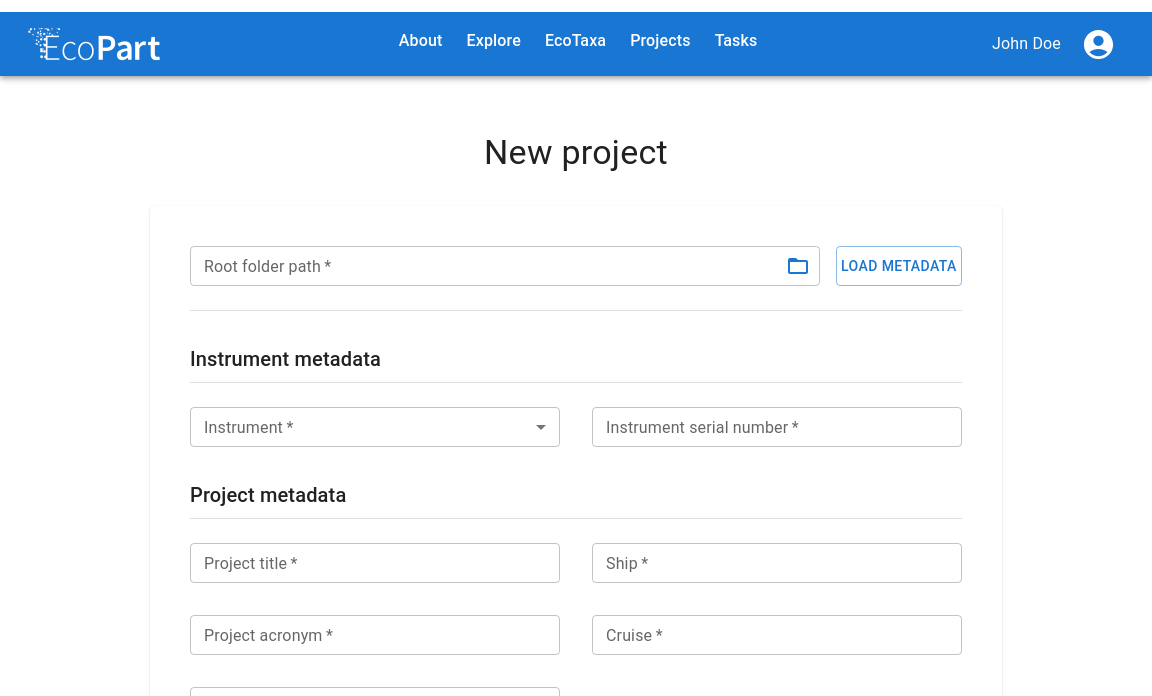
NewProjectPage (Functional) › TC-H6: should preserve entered values and show error when metadata loading fails
Check: the heading "New project" is shown, box [484,132,668,172]
Type "/invalid/folder/path" into the field labelled "Root folder path *" at (480, 266), box [190,246,770,286]
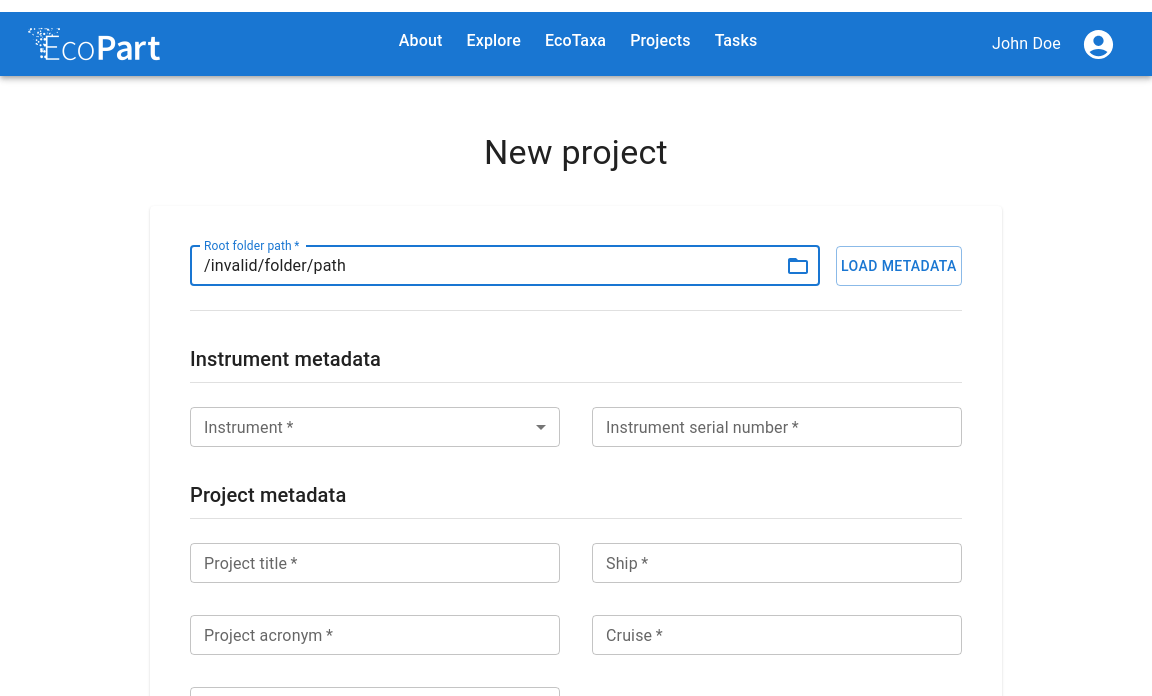
Type "MANUAL" into the field labelled "Project acronym *" at (375, 635), box [190,615,560,655]
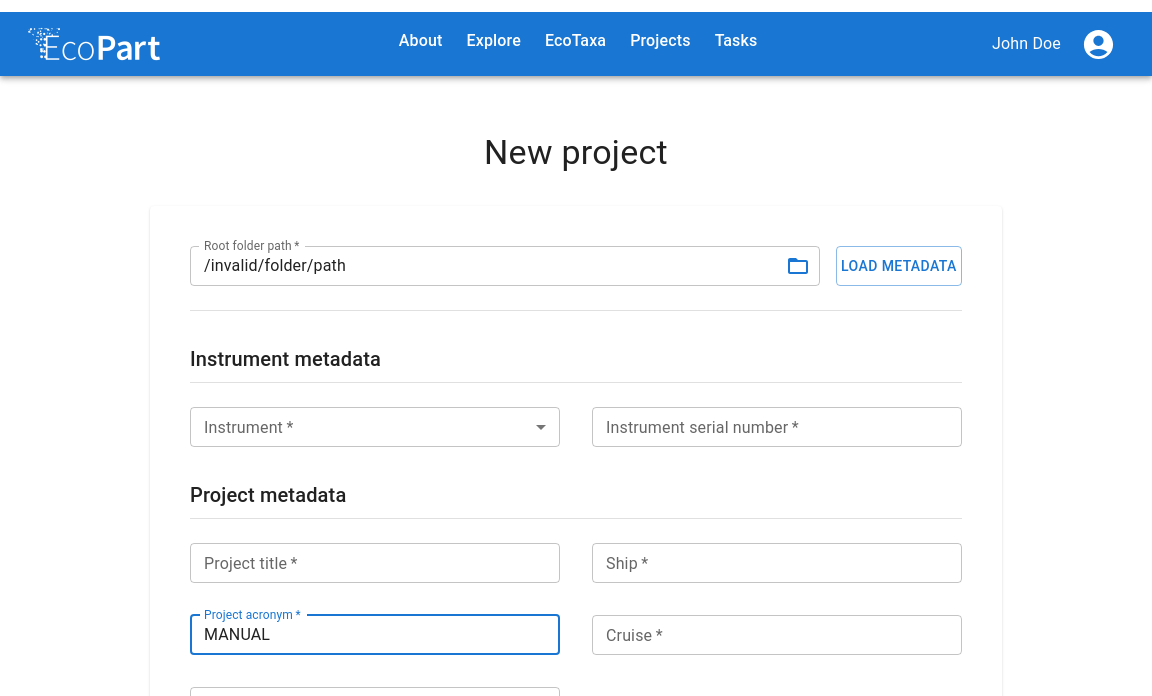
Click the button "Load metadata" at (899, 266), box [836,246,962,286]
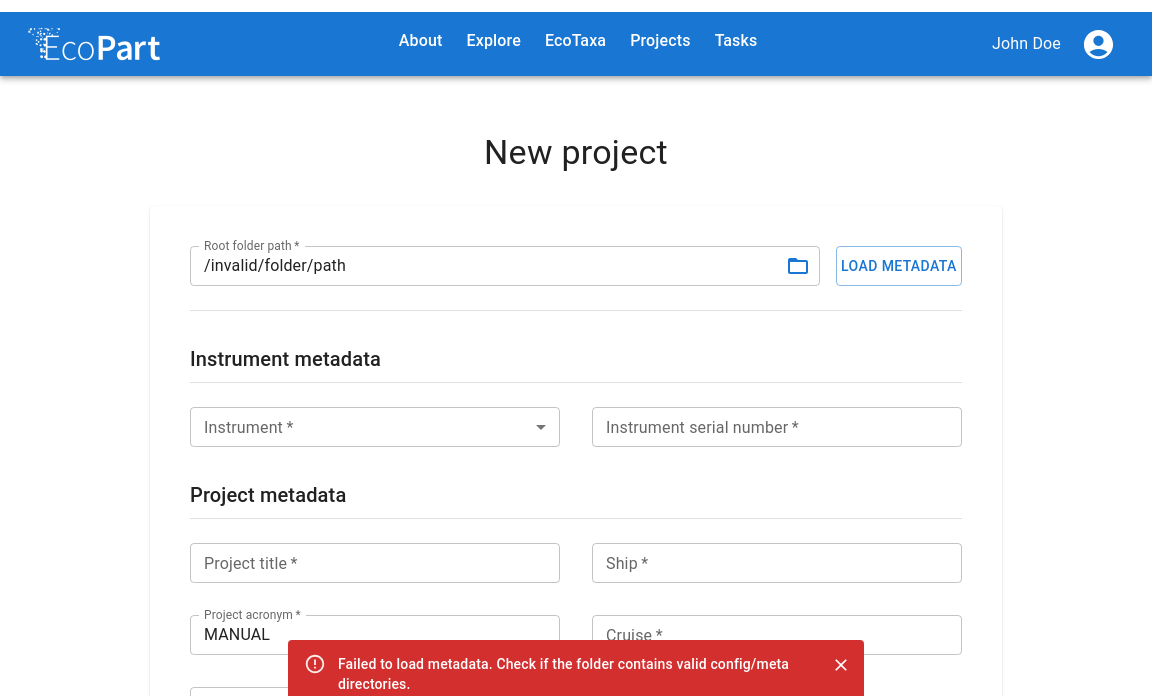
Check: the text "Failed to load metadata" is shown, box [338,656,789,692]
